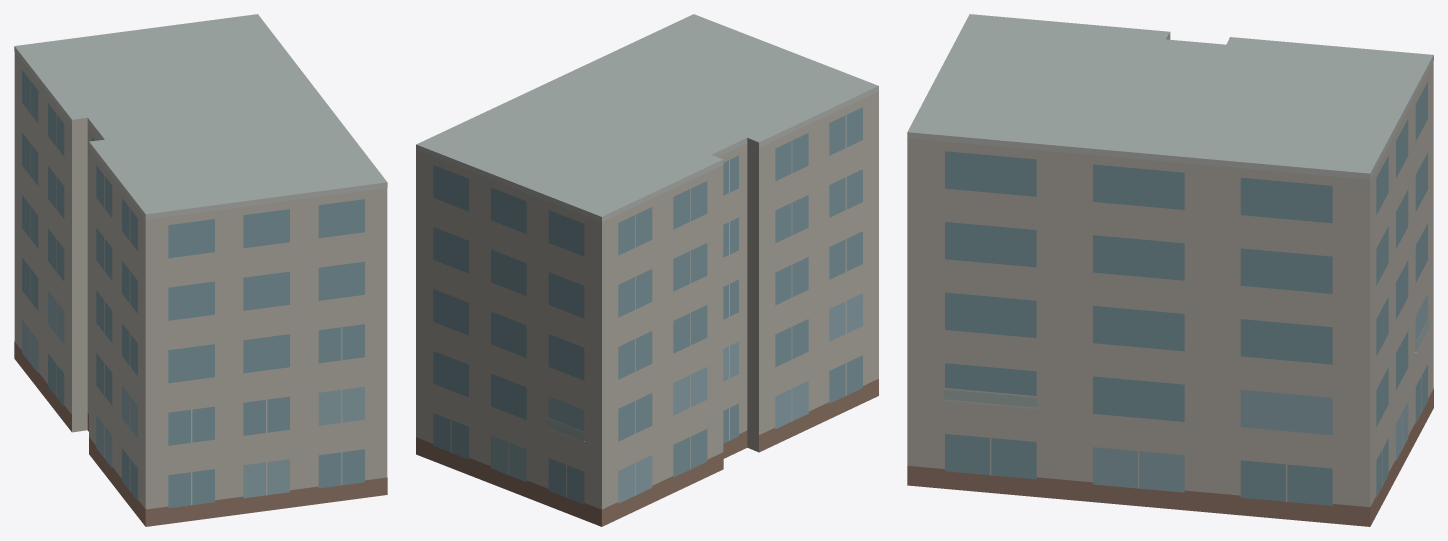
Rendered from survey-upis-33040768.glb.
3 renders of one model, left to right at view 1: azimuth 30°, elevation 25°; view 2: azimuth 150°, elevation 25°; view 3: azimuth 270°, elevation 25°, orthographic. The views are drawn at different scales.
Parts seen in each view (by area): view 1: survey-upis-33040768.tmp; view 2: survey-upis-33040768.tmp; view 3: survey-upis-33040768.tmp.
Boxes of the visible parts, x1,y1,x2,y2 form: survey-upis-33040768.tmp: [14, 14, 387, 526]; survey-upis-33040768.tmp: [416, 14, 878, 526]; survey-upis-33040768.tmp: [907, 14, 1433, 526].
Size of the model in its own units: 13.58 by 14 by 18.92.
